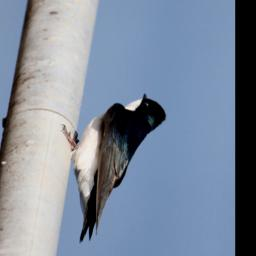Swallow: (49, 89, 168, 248)
